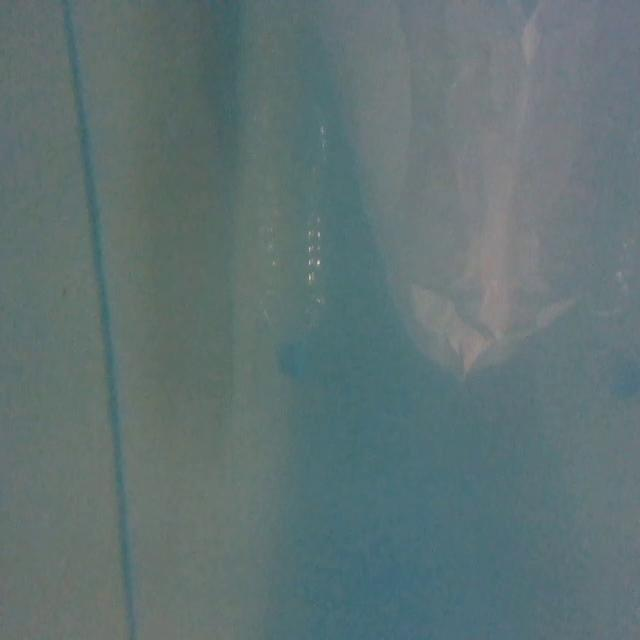plastic bags: (345, 0, 640, 416)
plastic bottle: (251, 91, 346, 381)
